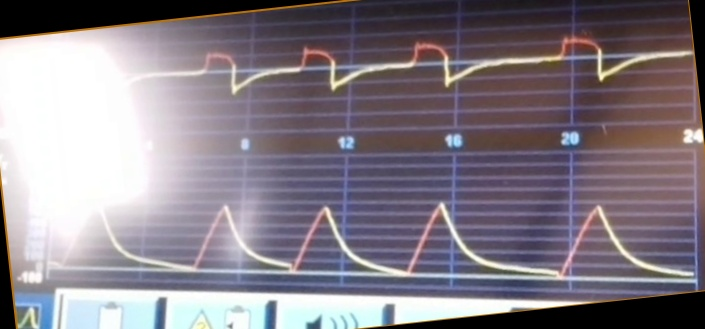Normal Flow: (130, 27, 692, 114)
Normal Volume: (50, 194, 693, 284)
